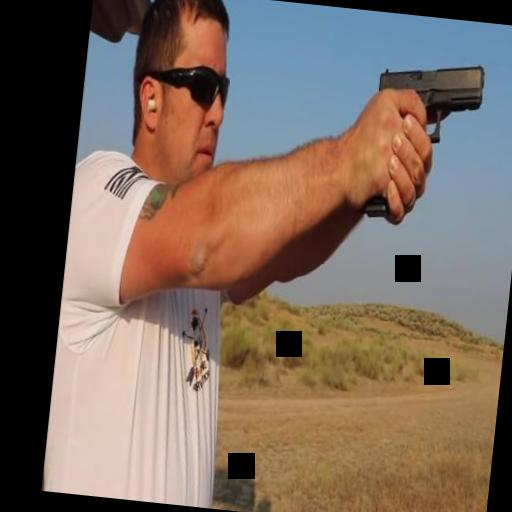Handgun: (362, 52, 488, 222)
